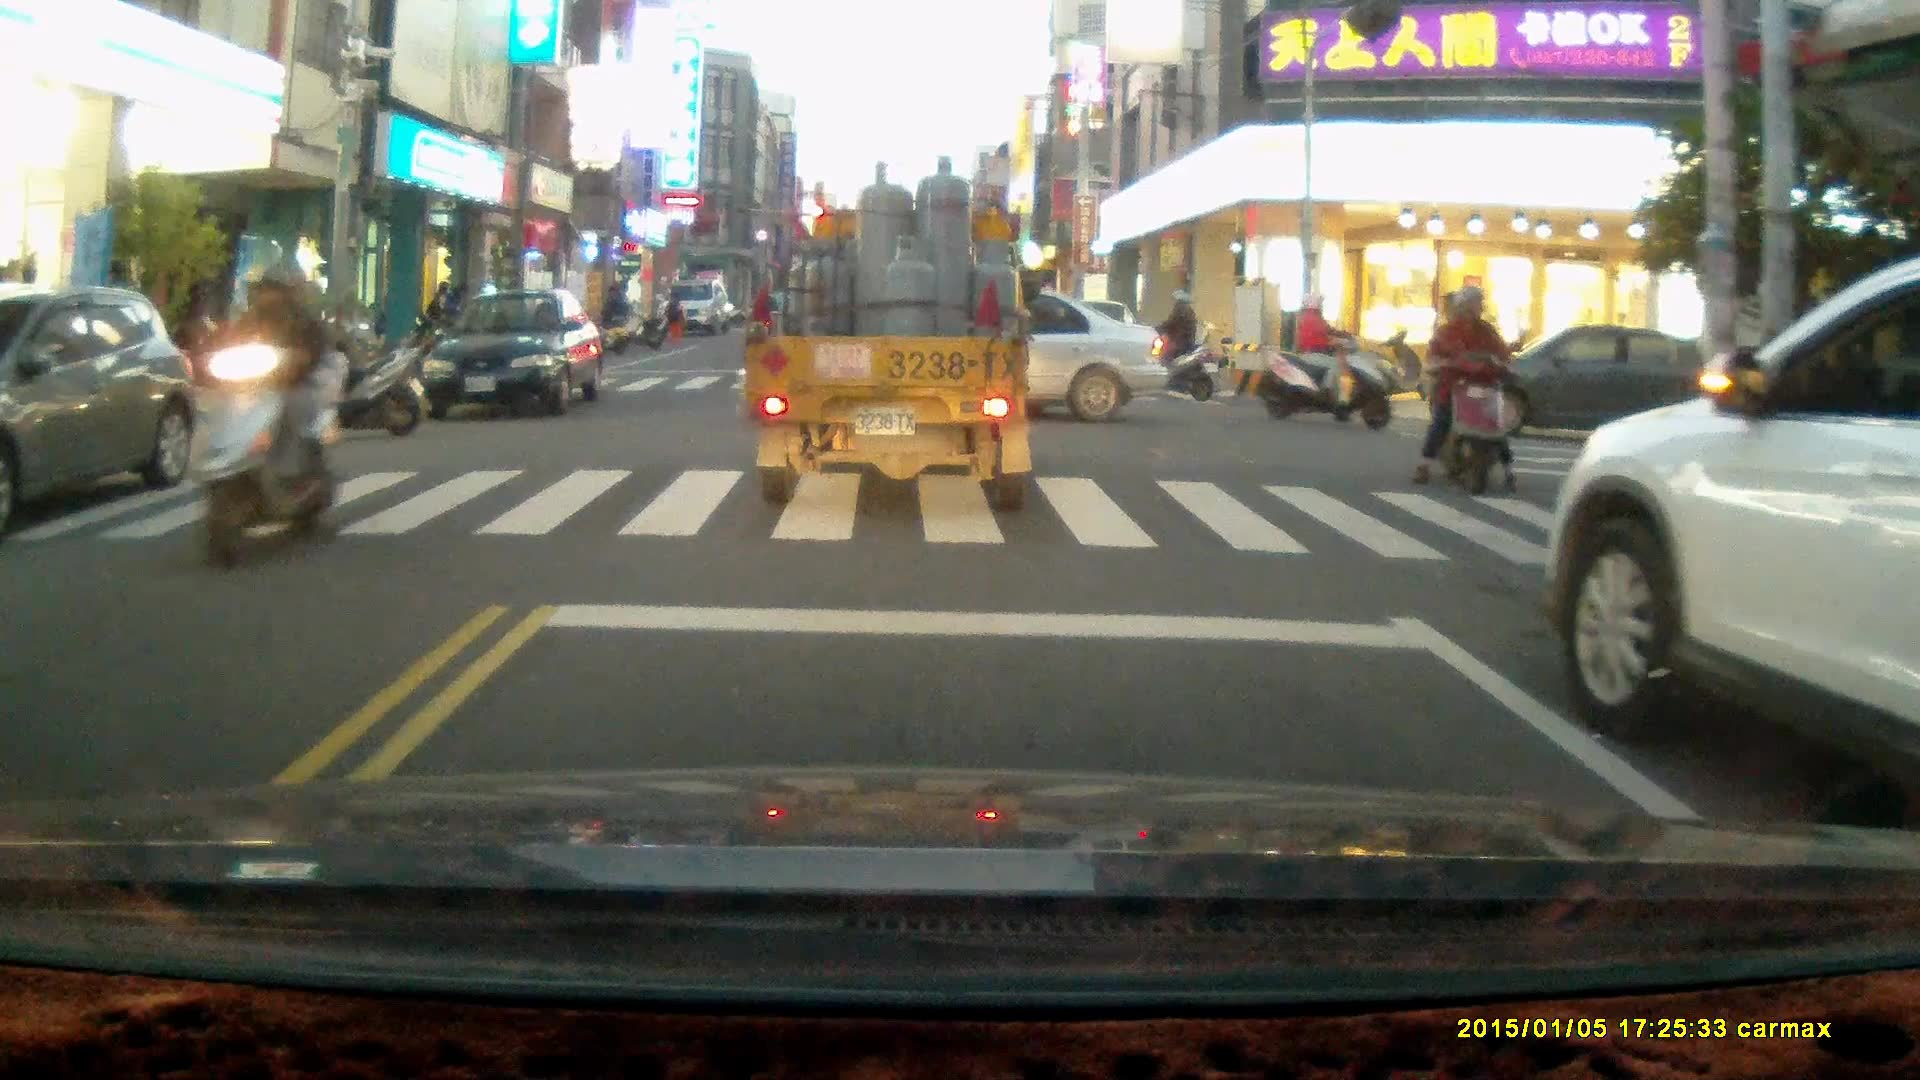pedestrian: (606, 279, 633, 342), (664, 288, 687, 345)
rider: (190, 258, 336, 570), (1411, 285, 1527, 500), (1257, 293, 1394, 428), (1122, 284, 1217, 403)
vehicle: (1542, 259, 1920, 796), (749, 154, 1035, 525), (1456, 324, 1720, 438), (422, 292, 607, 417), (659, 282, 731, 336)
